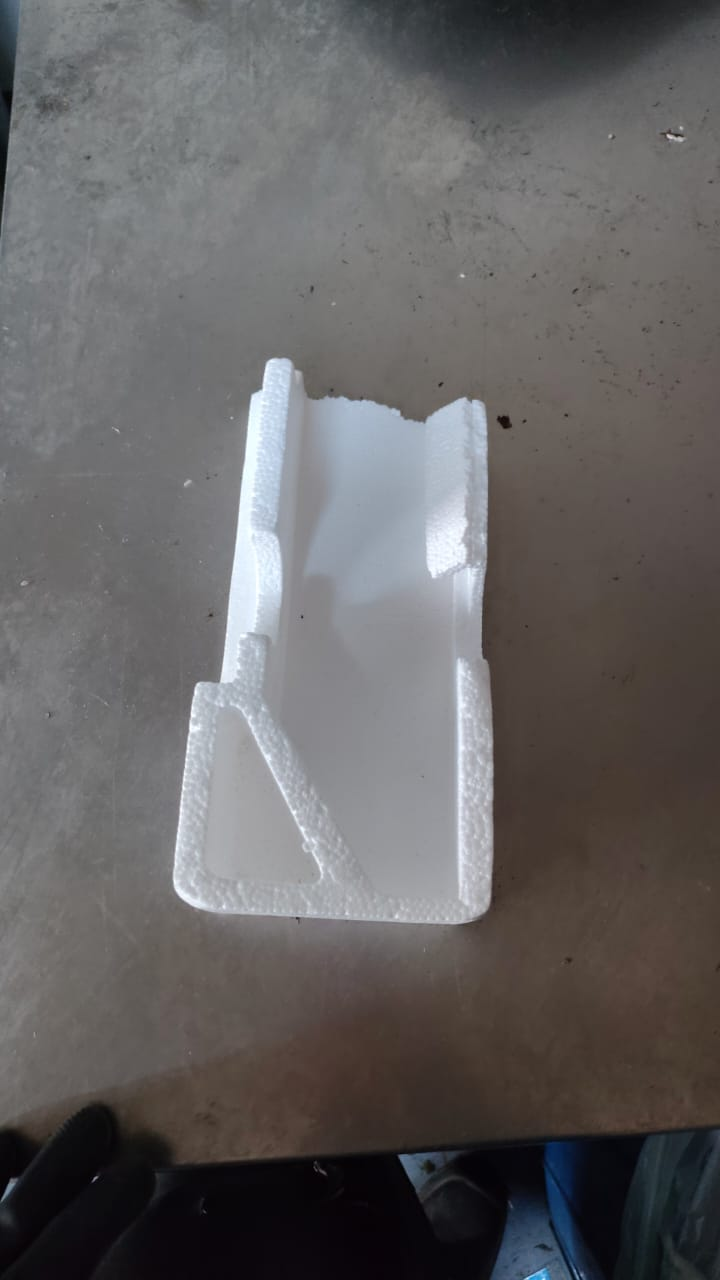Ordinario: (170, 357, 495, 935)
